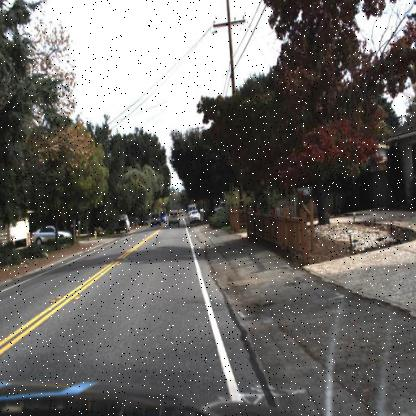car: (30, 222, 76, 248), (30, 224, 72, 244), (114, 212, 131, 235), (148, 211, 163, 230), (167, 208, 181, 228), (187, 209, 201, 227), (187, 208, 201, 226)
